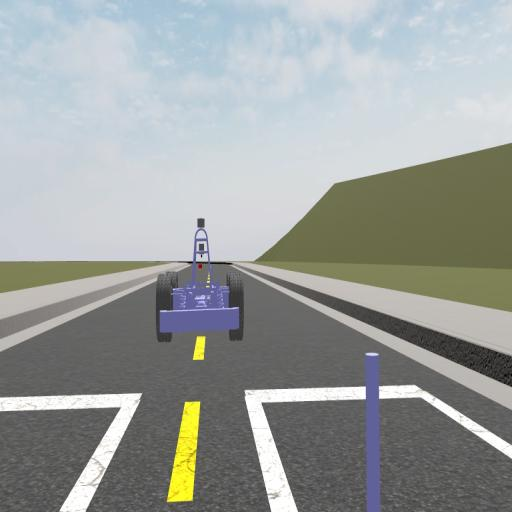ERP-42: (156, 219, 244, 343)
